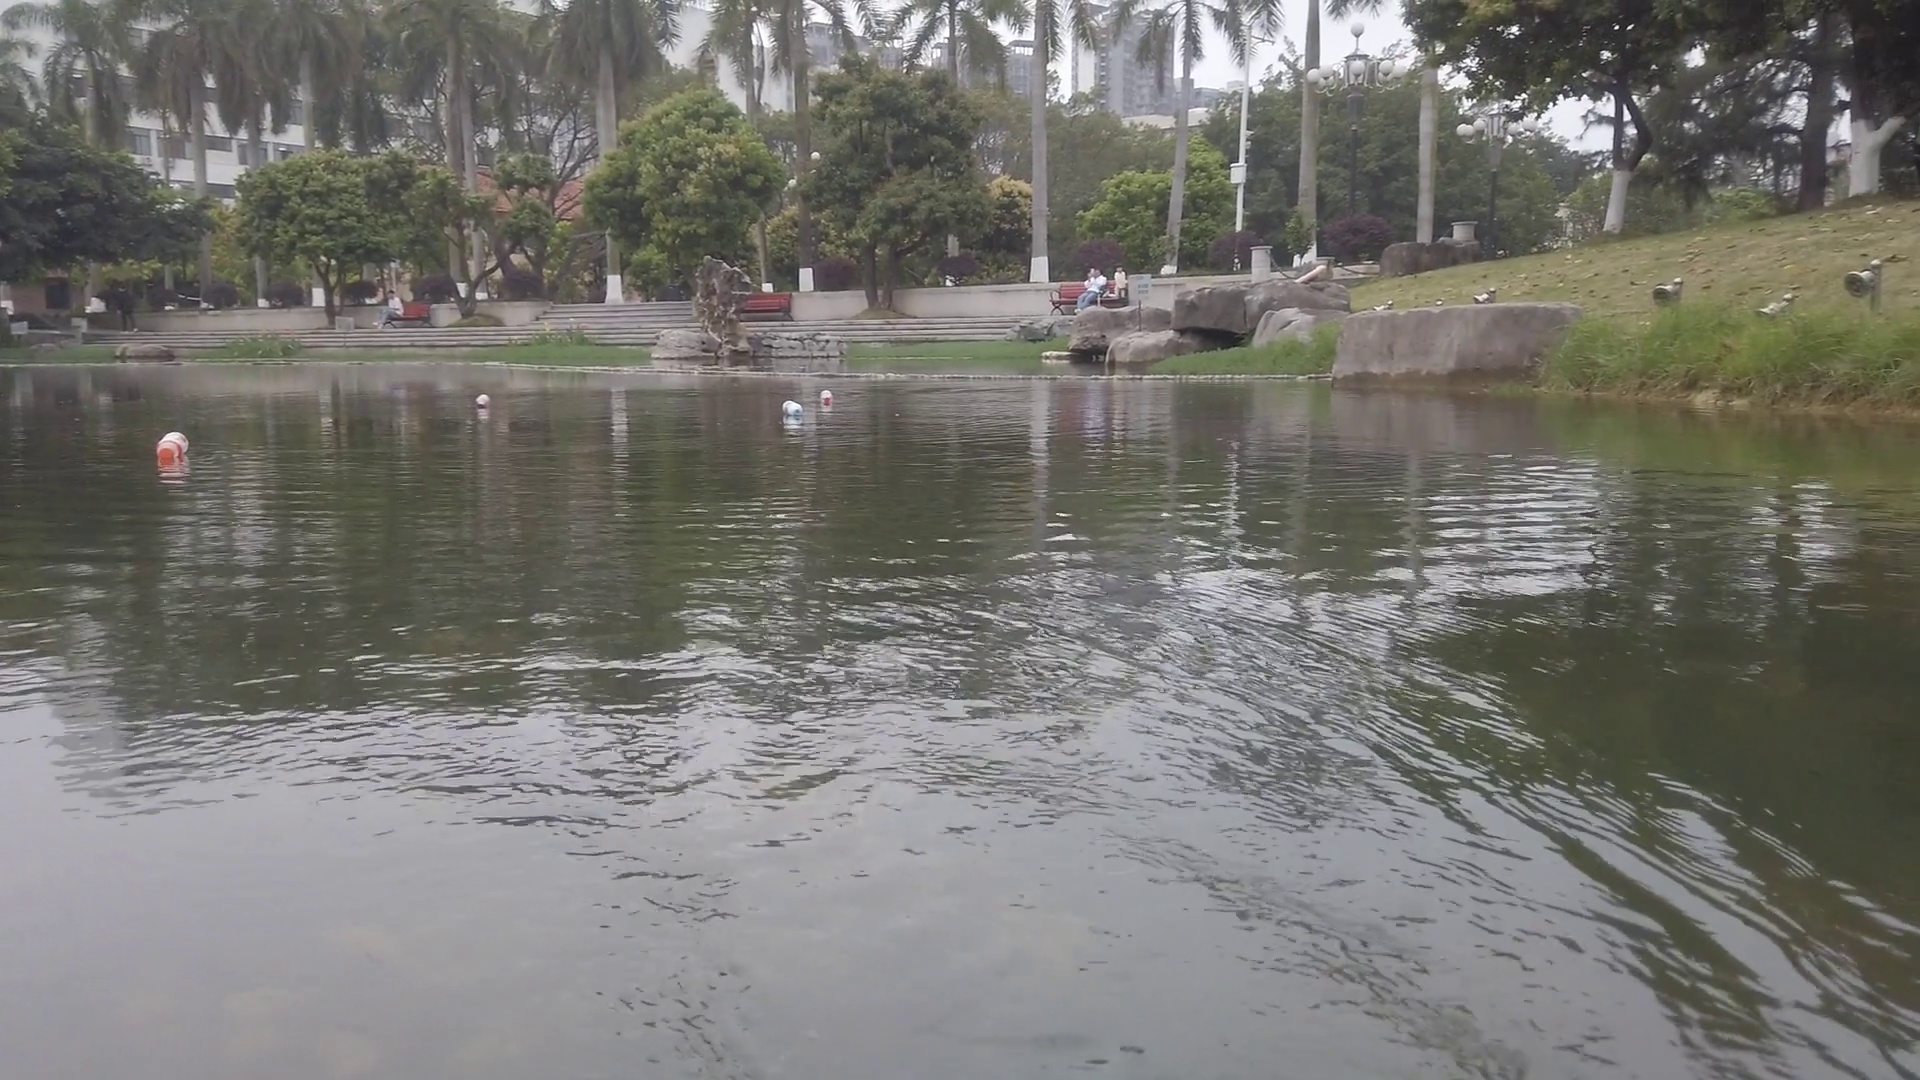bottle: (156, 430, 191, 462), (781, 398, 806, 419), (475, 394, 493, 410), (822, 389, 837, 404)
